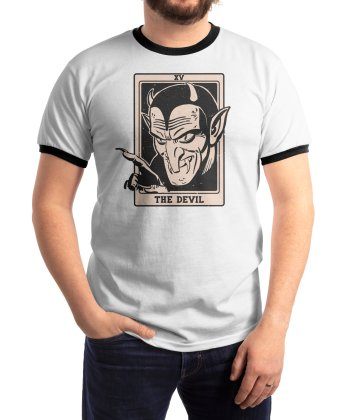design: (112, 71, 232, 208)
